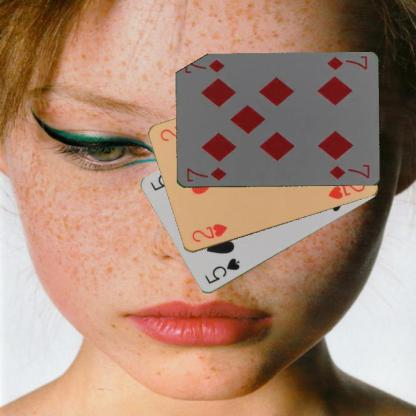2h: (189, 221, 229, 244)
5s: (202, 256, 241, 286)
7d: (184, 165, 227, 183), (324, 54, 368, 71)
